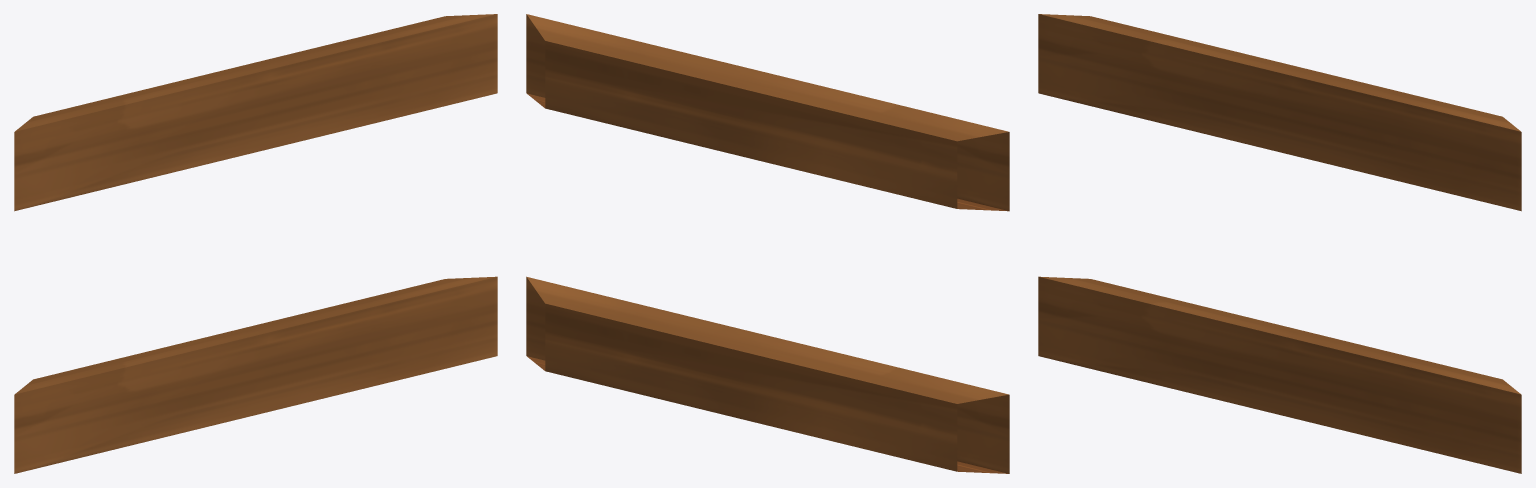
File: fence 2.FBX
3 renders of one model, left to right at view 1: azimuth 30°, elevation 25°; view 2: azimuth 150°, elevation 25°; view 3: azimuth 330°, elevation 25°, orthographic.
Parts seen in each view (by area): view 1: Box022; view 2: Box022; view 3: Box022.
Part boxes in pixels (left/top/right/bottom): Box022: left=14, top=14, right=497, bottom=473; Box022: left=526, top=14, right=1009, bottom=473; Box022: left=1038, top=14, right=1521, bottom=473.
Size of the model in its own units: 7.99 by 5.4 by 0.4814.
1 material, 1 textured.
